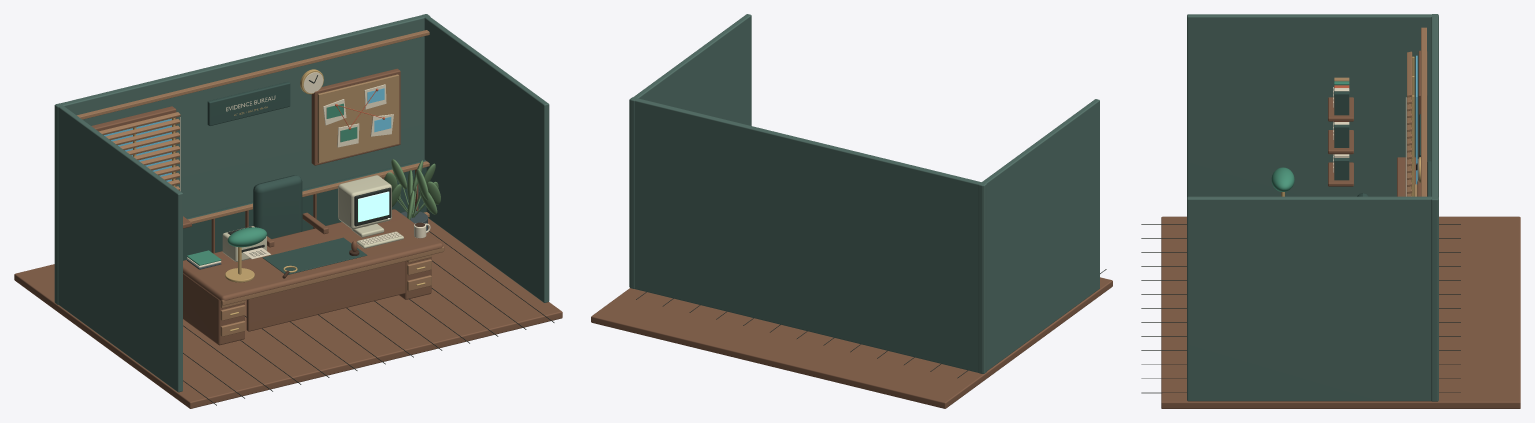
File: bureau-room-v3.glb
The picture shows the model from 3 angles, left to right: view 1: azimuth 30°, elevation 25°; view 2: azimuth 150°, elevation 25°; view 3: azimuth 270°, elevation 25°; orthographic projection. The views are drawn at different scales.
Visible parts, largest first — view 1: Back wall, Floor, Side wall, Side wall.001, Desk top, DeskModestyPanel, Cork, Wainscot, Chair back, Wall molding.002, Bureau sign, Desk pedestal (+10 smaller); view 2: Back wall, Side wall, Floor, Side wall.001; view 3: Side wall.001, Side wall, Floor, Back wall, Wall molding.002, LampShade, Window sill, Window frame, Shelf, Shelf.002, Archive volume.014, Shelf.001 (+3 smaller).
Part boxes in pixels (x1=…): Back wall: x1=54, y1=14, x2=430, y2=304; Floor: x1=14, y1=218, x2=562, y2=408; Side wall: x1=56, y1=103, x2=182, y2=392; Side wall.001: x1=422, y1=14, x2=549, y2=302; Desk top: x1=183, y1=209, x2=442, y2=301; DeskModestyPanel: x1=246, y1=261, x2=405, y2=331; Cork: x1=317, y1=74, x2=399, y2=163; Wainscot: x1=183, y1=159, x2=426, y2=260; Chair back: x1=253, y1=175, x2=302, y2=238; Wall molding.002: x1=77, y1=30, x2=429, y2=119; Bureau sign: x1=207, y1=81, x2=290, y2=125; Desk pedestal: x1=183, y1=274, x2=244, y2=345; Back wall: x1=629, y1=97, x2=986, y2=373; Side wall: x1=978, y1=99, x2=1099, y2=373; Floor: x1=591, y1=277, x2=1112, y2=408; Side wall.001: x1=630, y1=14, x2=751, y2=288; Side wall.001: x1=1187, y1=196, x2=1438, y2=401; Side wall: x1=1187, y1=14, x2=1438, y2=197; Floor: x1=1161, y1=216, x2=1520, y2=408; Back wall: x1=1431, y1=14, x2=1438, y2=401; Wall molding.002: x1=1421, y1=27, x2=1426, y2=196; LampShade: x1=1271, y1=167, x2=1294, y2=191; Window sill: x1=1397, y1=157, x2=1415, y2=196; Window frame: x1=1418, y1=50, x2=1427, y2=196; Shelf: x1=1328, y1=162, x2=1353, y2=186; Shelf.002: x1=1328, y1=97, x2=1353, y2=121; Archive volume.014: x1=1334, y1=91, x2=1349, y2=115; Shelf.001: x1=1328, y1=130, x2=1353, y2=154.
Bounding box in the file's own units: 11 × 5.8 × 9.5.
